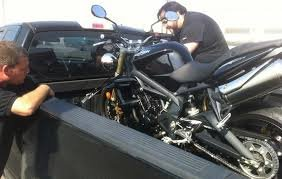motor: (95, 42, 282, 179)
